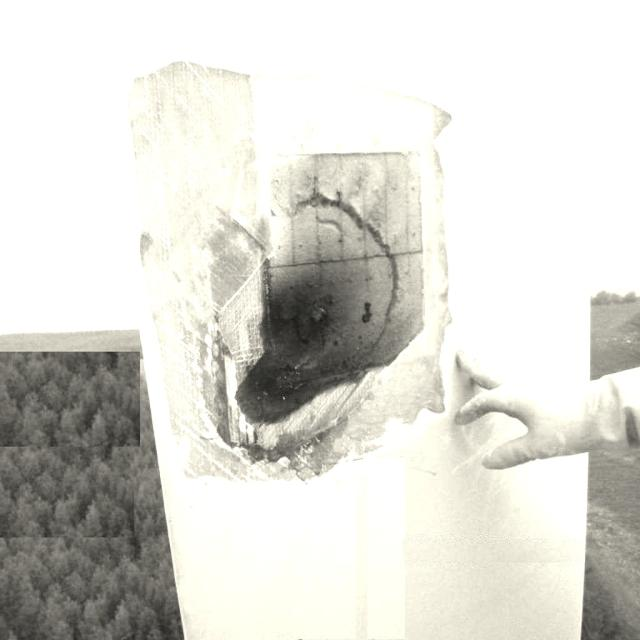crack: (226, 234, 410, 428)
